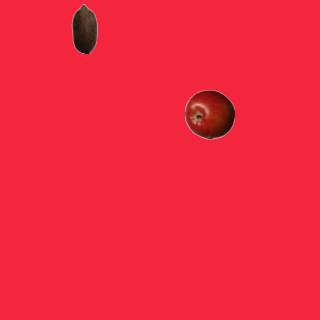Apple Braeburn: (184, 89, 234, 139)
Nut Pecan: (59, 3, 109, 53)
